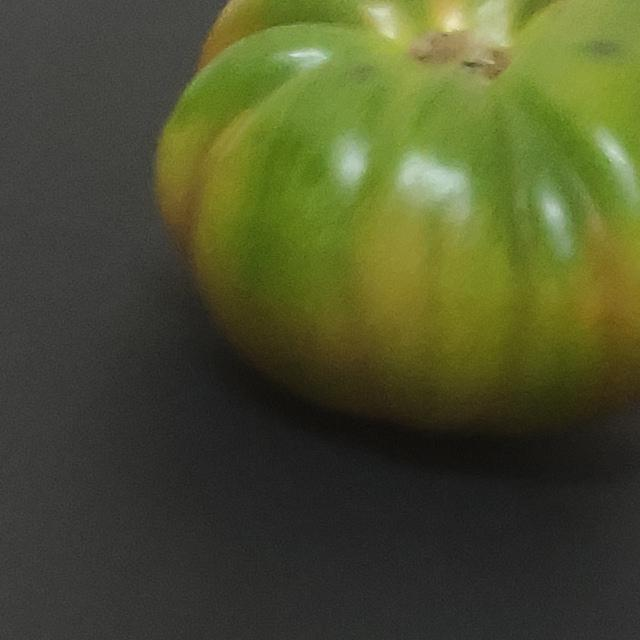tomato: (78, 0, 640, 464)
